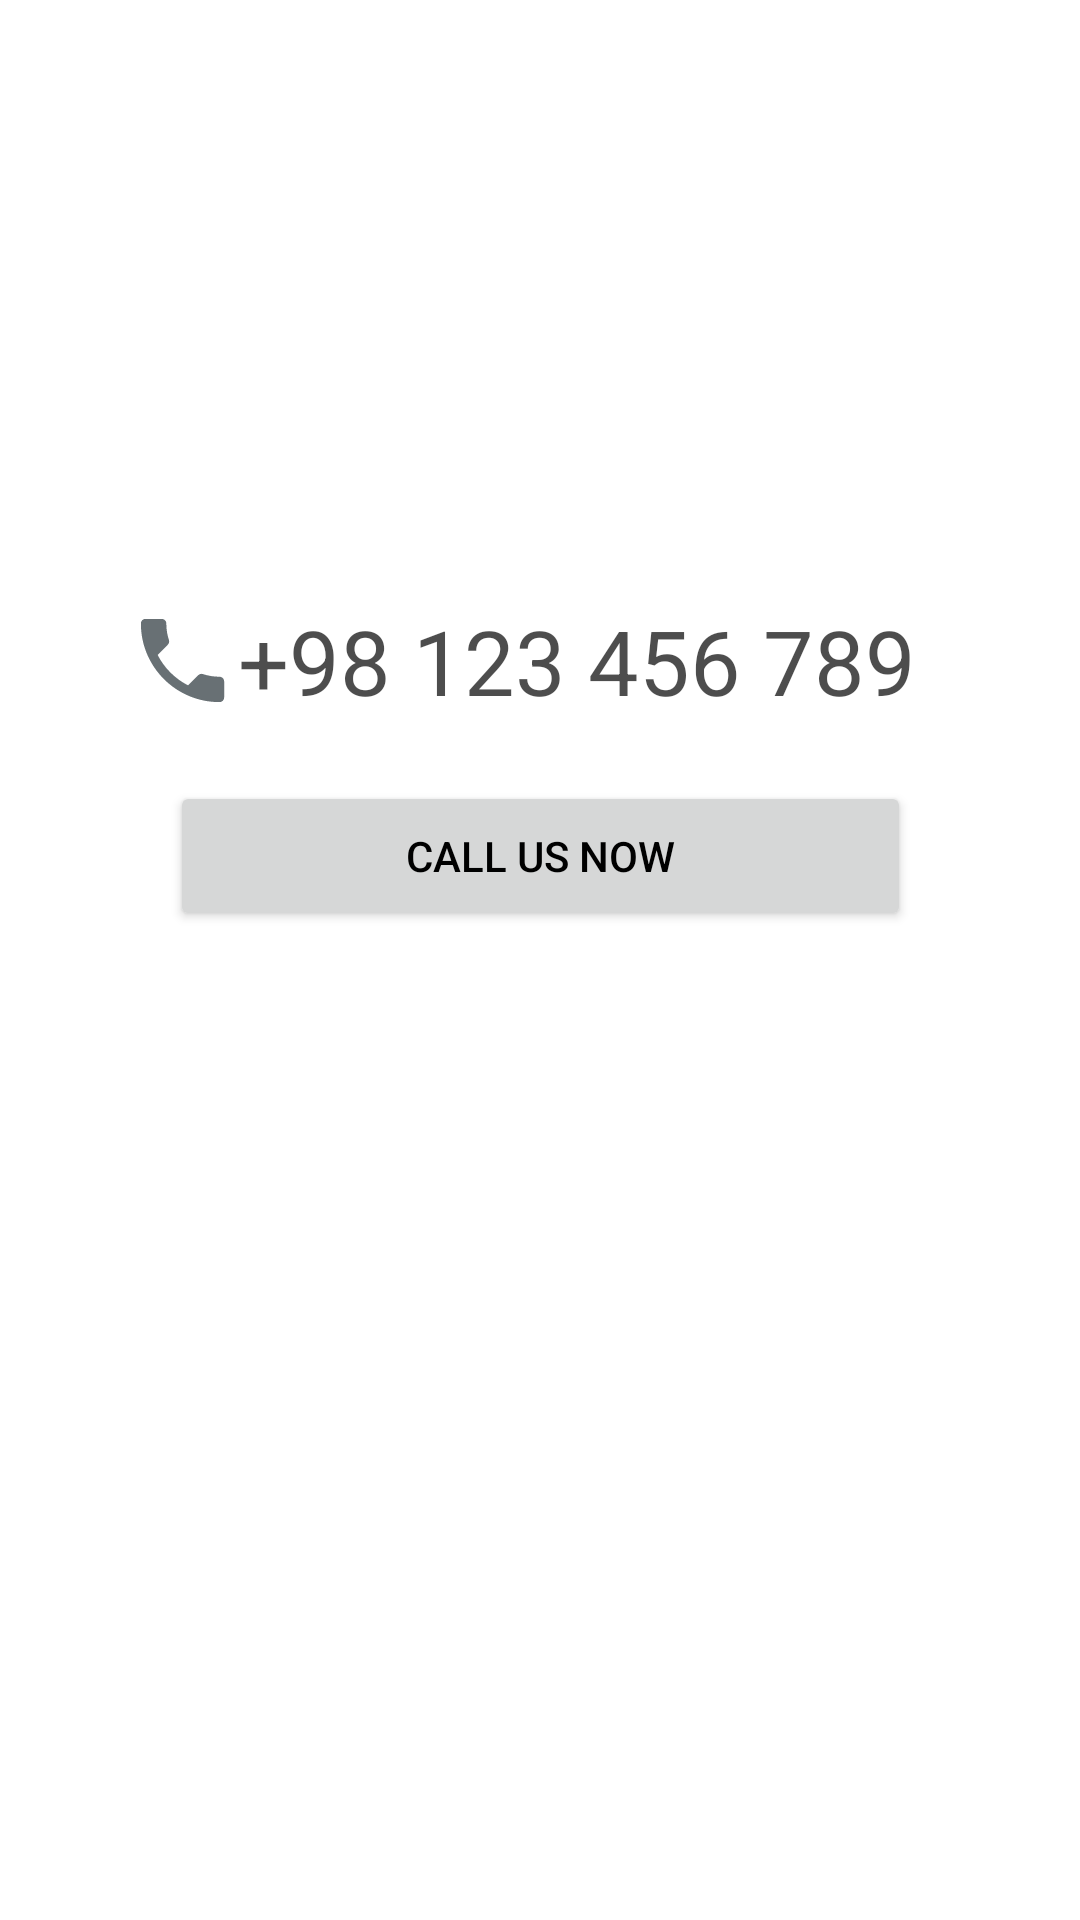

Icon bounding boxes for this 1080×1920 phone screenshot, format bbox=(x1, y1, x2, y2):
phone: bbox=(141, 619, 225, 702)
